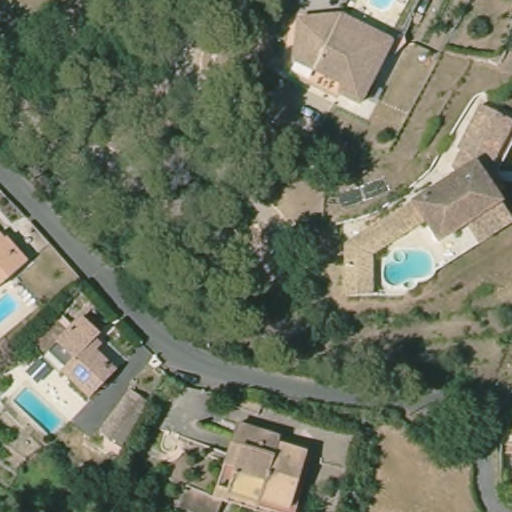pool: (378, 241, 440, 296), (14, 388, 69, 438), (1, 287, 22, 334), (355, 1, 405, 16)
